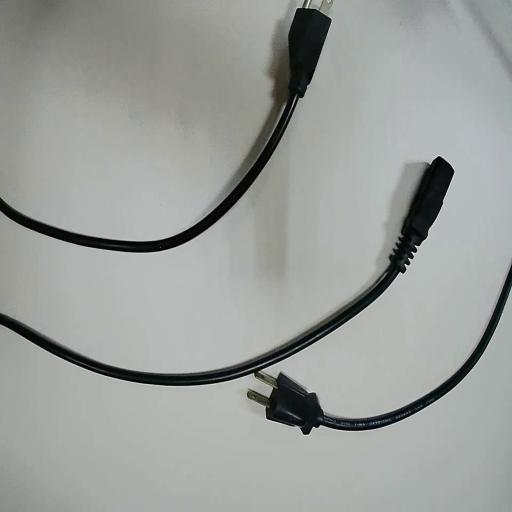wire: (0, 158, 452, 384), (0, 8, 329, 251), (261, 268, 511, 433)
